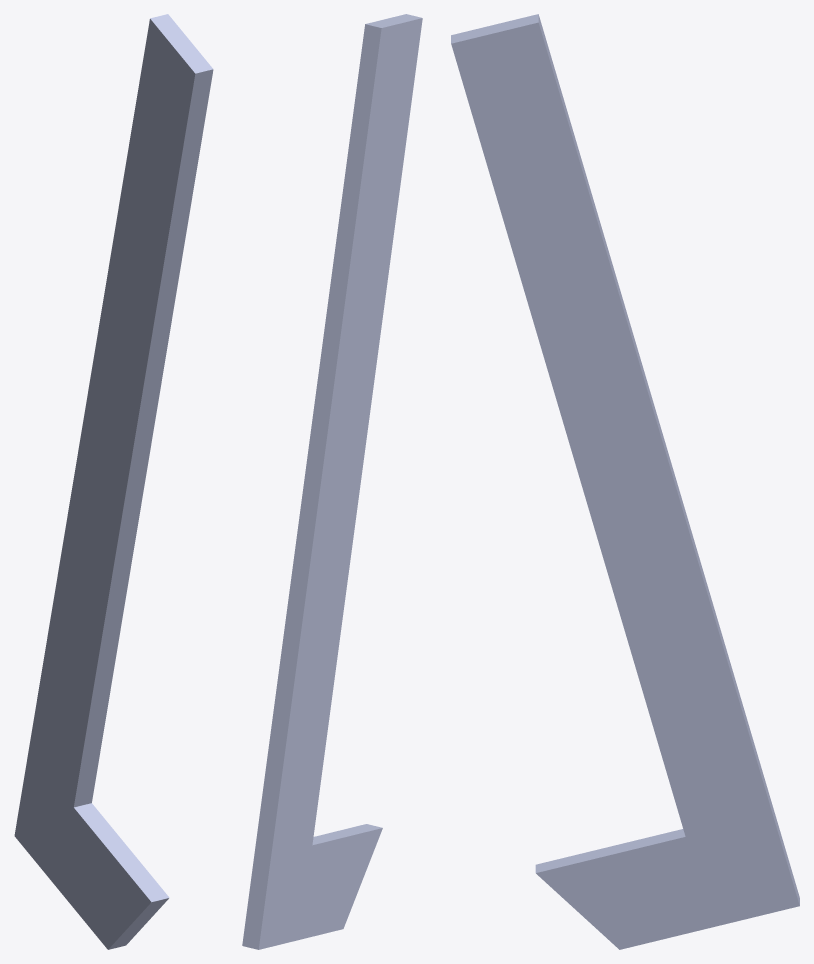
The model's file is body125_visual.obj.
3 renders of one model, left to right at view 1: azimuth 30°, elevation 25°; view 2: azimuth 150°, elevation 25°; view 3: azimuth 270°, elevation 25°, orthographic. The views are drawn at different scales.
Visible parts, largest first — view 1: Body125; view 2: Body125; view 3: Body125.
Part boxes in pixels (x1,y1,x2,y2): Body125: [14, 14, 213, 949]; Body125: [242, 14, 422, 949]; Body125: [451, 14, 799, 949].
Size of the model in its own units: 0.000999 by 0.0507 by 0.0173.
